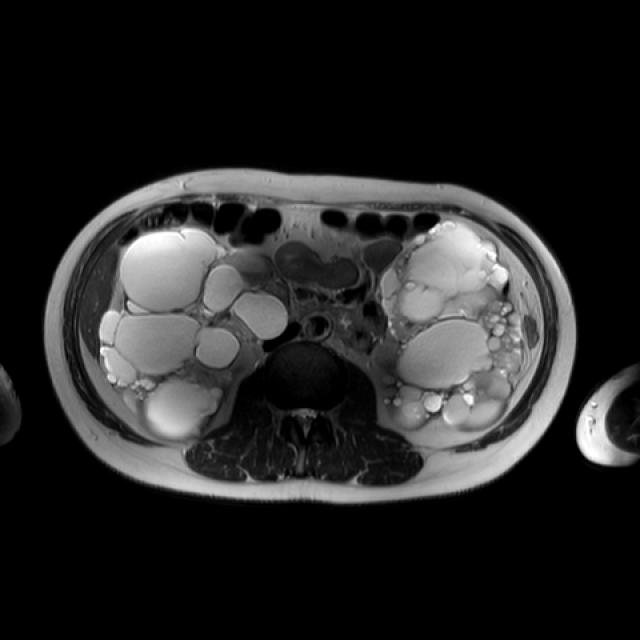sag: (99, 228, 289, 439)
sol: (381, 217, 524, 431)
